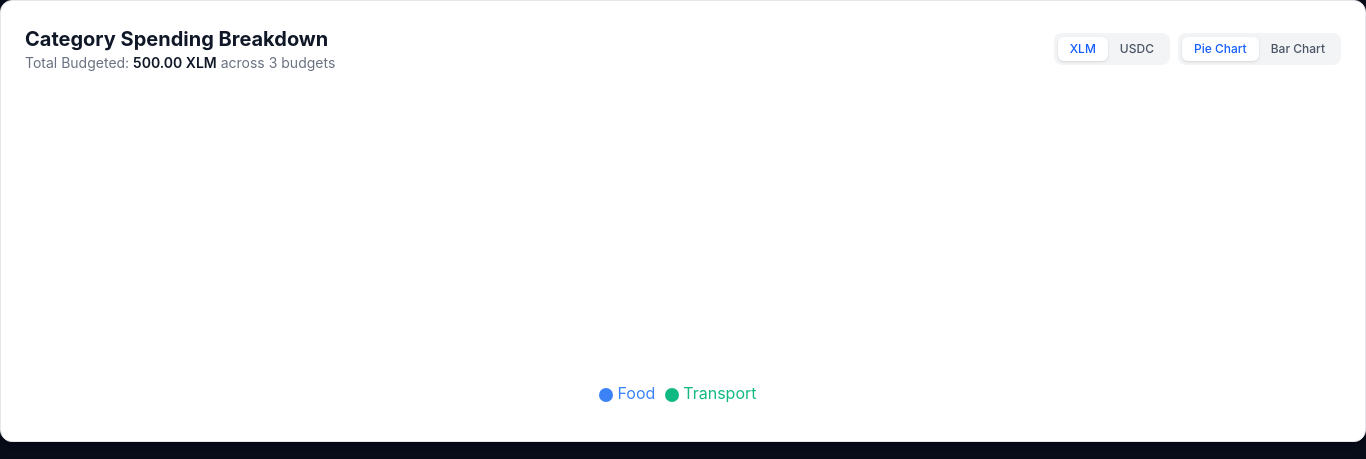
Test: BudgetCategoryBreakdownChart › allows switching between different assets
Click the button "USDC" at (1137, 49), box [1108, 37, 1166, 61]
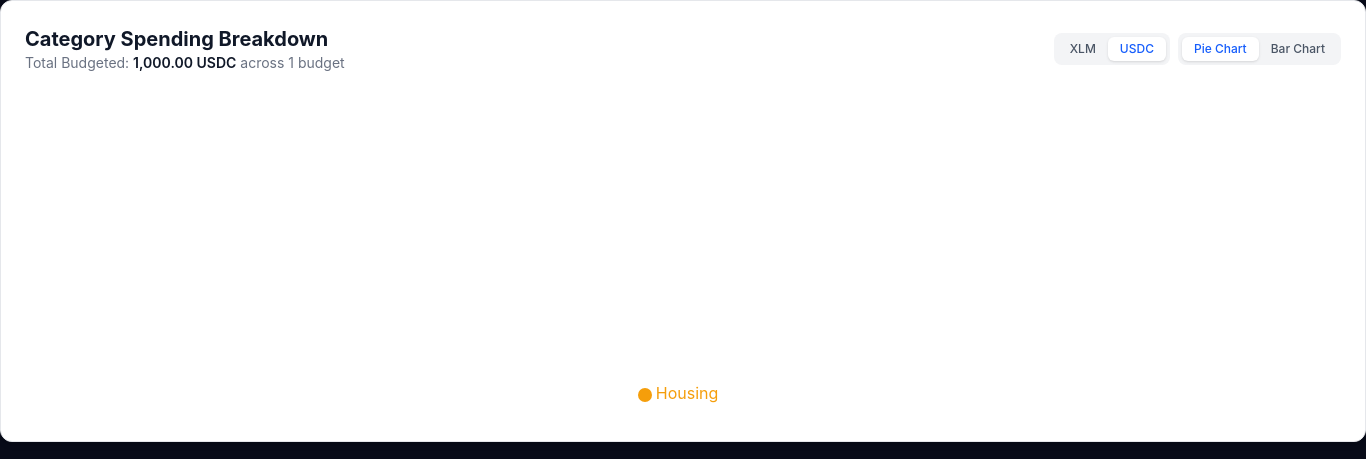
Expected: the text "1,000.00 USDC" is shown, [133, 54, 236, 71]
Expected: the text "Total Budgeted: 1,000.00 USDC across 1 budget" is shown, [25, 53, 345, 73]
